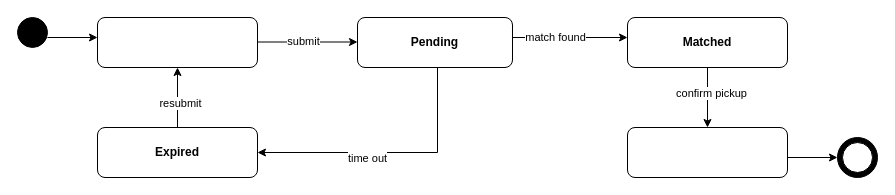
The diagram is 895 pixels wide and 195 high, and some of its shapes have lost their labels. The centre of each missing label's shape, as x and y in pixels:
Claimed: pixel 707 152
Reported: pixel 177 42
